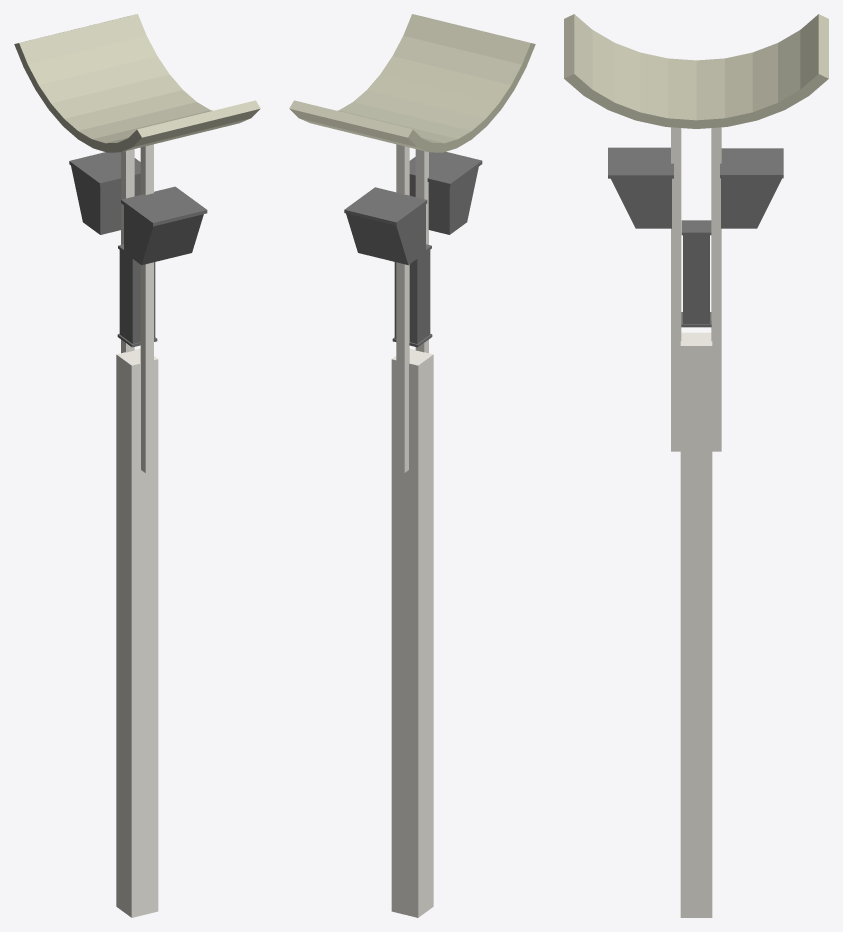
The model's file is lamp5.gltf.
3 views of the same model, side by side, from view 1: azimuth 30°, elevation 25°; view 2: azimuth 150°, elevation 25°; view 3: azimuth 270°, elevation 25° (orthographic). The views are drawn at different scales.
Parts seen in each view (by area): view 1: Cube, 柱体, Cube.005, Cube.004, Cube.002, Cube.003, Cube.001; view 2: Cube, 柱体, Cube.004, Cube.005, Cube.001, Cube.003, Cube.002; view 3: Cube, 柱体, Cube.005, Cube.004, Cube.001, Cube.002, Cube.003.
Boxes of the visible parts, bbox=[...] form: Cube: bbox=[116, 348, 158, 917]; 柱体: bbox=[14, 14, 260, 152]; Cube.005: bbox=[121, 186, 207, 265]; Cube.004: bbox=[69, 152, 140, 234]; Cube.002: bbox=[140, 144, 153, 472]; Cube.003: bbox=[117, 244, 157, 347]; Cube.001: bbox=[121, 149, 134, 353]; Cube: bbox=[391, 348, 433, 917]; 柱体: bbox=[289, 14, 535, 152]; Cube.004: bbox=[344, 187, 427, 265]; Cube.005: bbox=[409, 151, 482, 234]; Cube.001: bbox=[396, 144, 409, 472]; Cube.003: bbox=[392, 244, 432, 347]; Cube.002: bbox=[415, 149, 428, 353]; Cube: bbox=[680, 332, 712, 917]; 柱体: bbox=[564, 14, 828, 128]; Cube.005: bbox=[608, 147, 673, 228]; Cube.004: bbox=[720, 148, 783, 228]; Cube.001: bbox=[711, 127, 721, 451]; Cube.002: bbox=[671, 127, 681, 451]; Cube.003: bbox=[681, 220, 711, 327].
Size of the model in its own units: 2.55 by 17.2 by 4.76.
